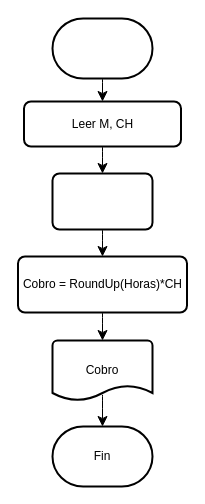
Some shapes in this 205 by 504 pixel diagram are drawn without their labels. The shapes that lost their labels are listed below. From the top down, each one's box as (x1, y1, x2, y2) in pixels, then its label:
(51, 17, 153, 79): Inicio
(51, 172, 153, 230): H = M/60
